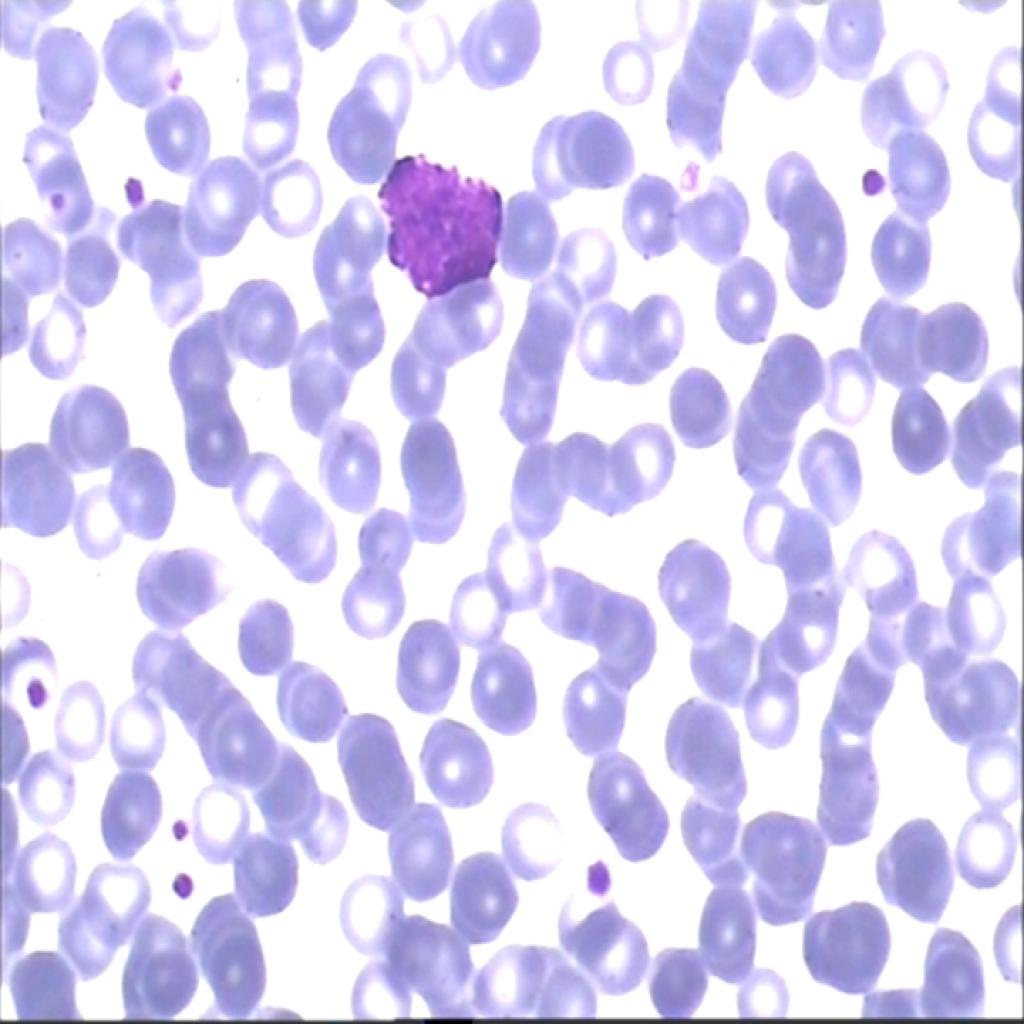Basofil: (368, 141, 518, 311)
Platelet: (851, 153, 893, 219), (106, 167, 150, 219), (582, 850, 614, 905), (168, 864, 206, 907), (23, 665, 54, 715), (167, 812, 199, 858), (40, 182, 62, 220)
